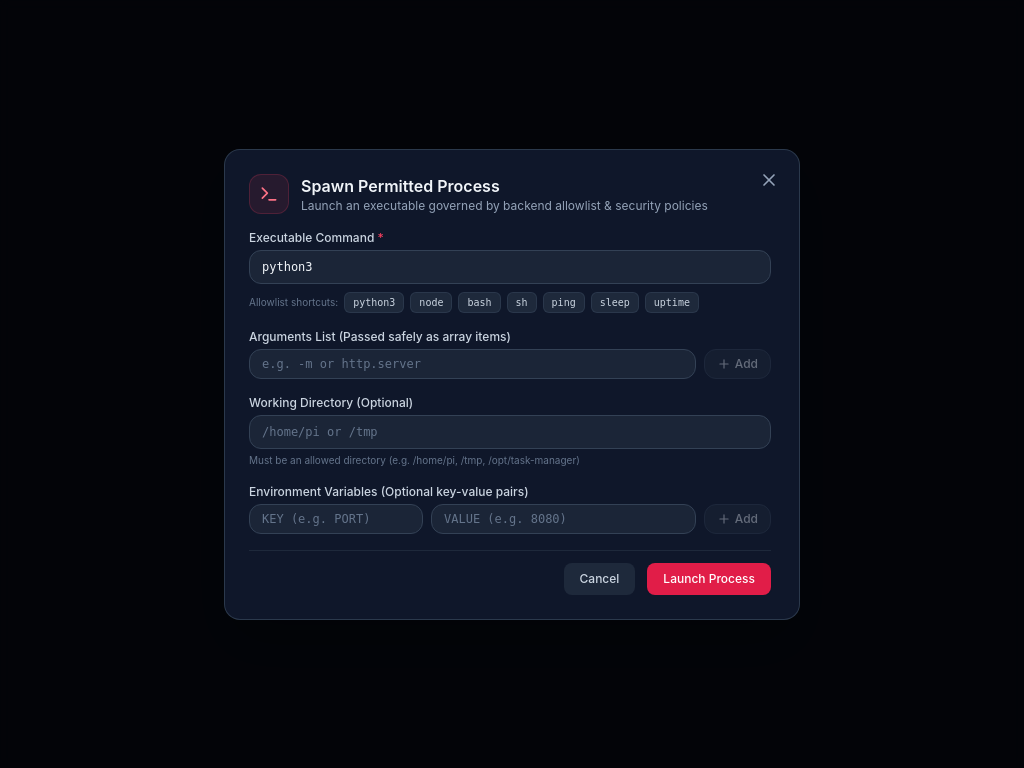
Test: CreateProcessDialog › Happy path: successful process creation › adds a new argument when Enter is pressed in the arg input
This screenshot has width=1024, height=768.
Type "--port" into the field with placeholder "e.g. -m or http.server" at x=472, y=364, box x1=249 y1=348 x2=696 y2=378
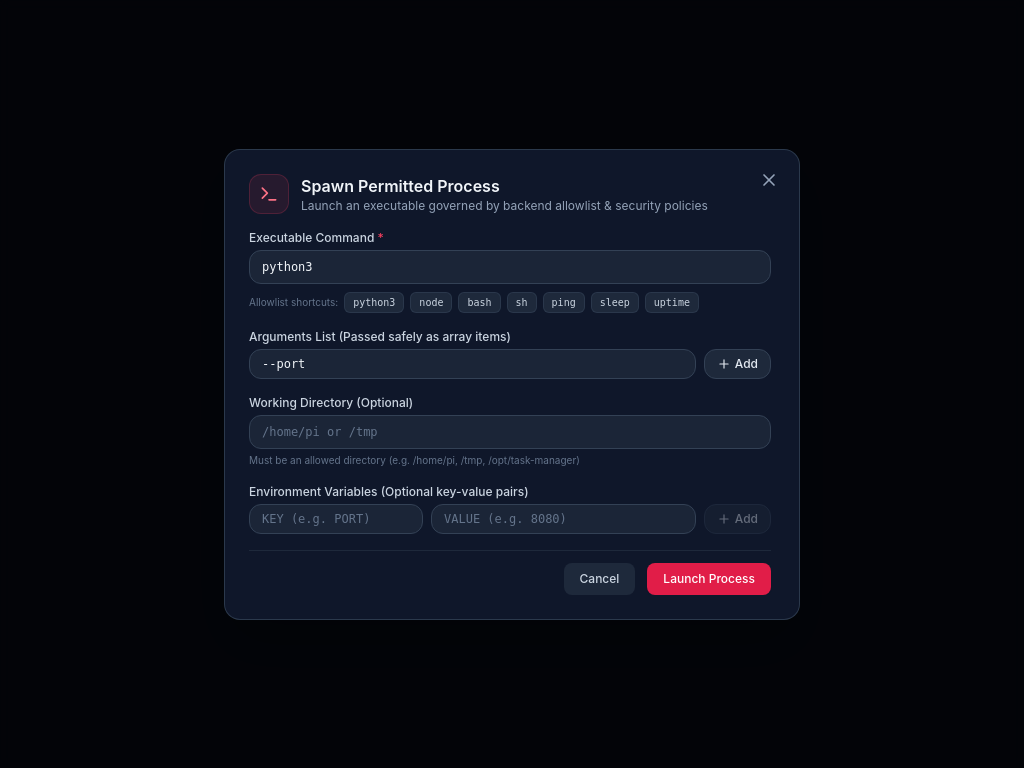
Press Enter in the 2nd field with placeholder "e.g. -m or http.server", box x1=249 y1=348 x2=696 y2=378
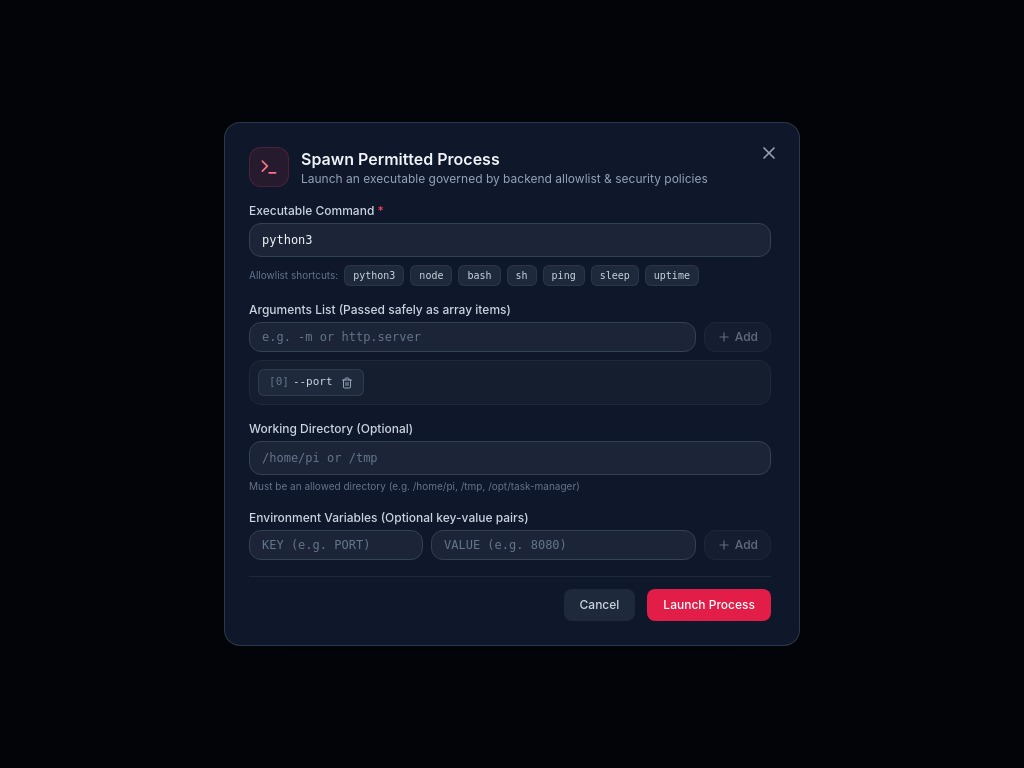
Result: the text "--port" is shown at x1=293 y1=375 x2=333 y2=388
